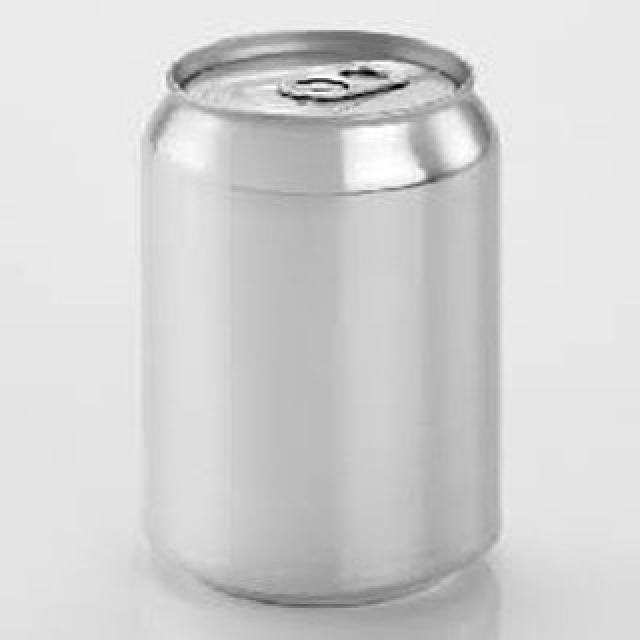recyclable: (138, 27, 501, 616)
